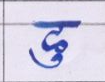u_matra: (28, 47, 65, 69)
